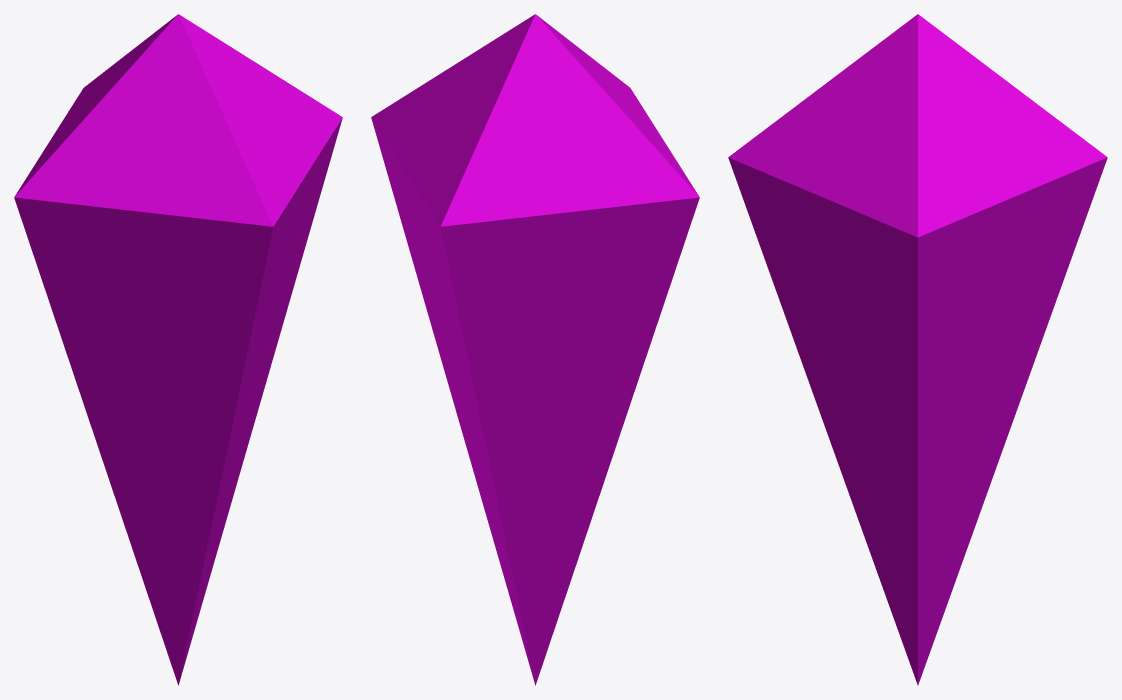
File: Jem_23.fbx
3 renders of one model, left to right at view 1: azimuth 30°, elevation 25°; view 2: azimuth 150°, elevation 25°; view 3: azimuth 270°, elevation 25°, orthographic.
Visible parts, largest first — view 1: Jem_23; view 2: Jem_23; view 3: Jem_23.
Part boxes in pixels (<box>): Jem_23: <box>14,14,342,685</box>; Jem_23: <box>371,14,699,685</box>; Jem_23: <box>728,14,1107,685</box>.
Size of the model in its own units: 39.6 by 77.33 by 39.6.
